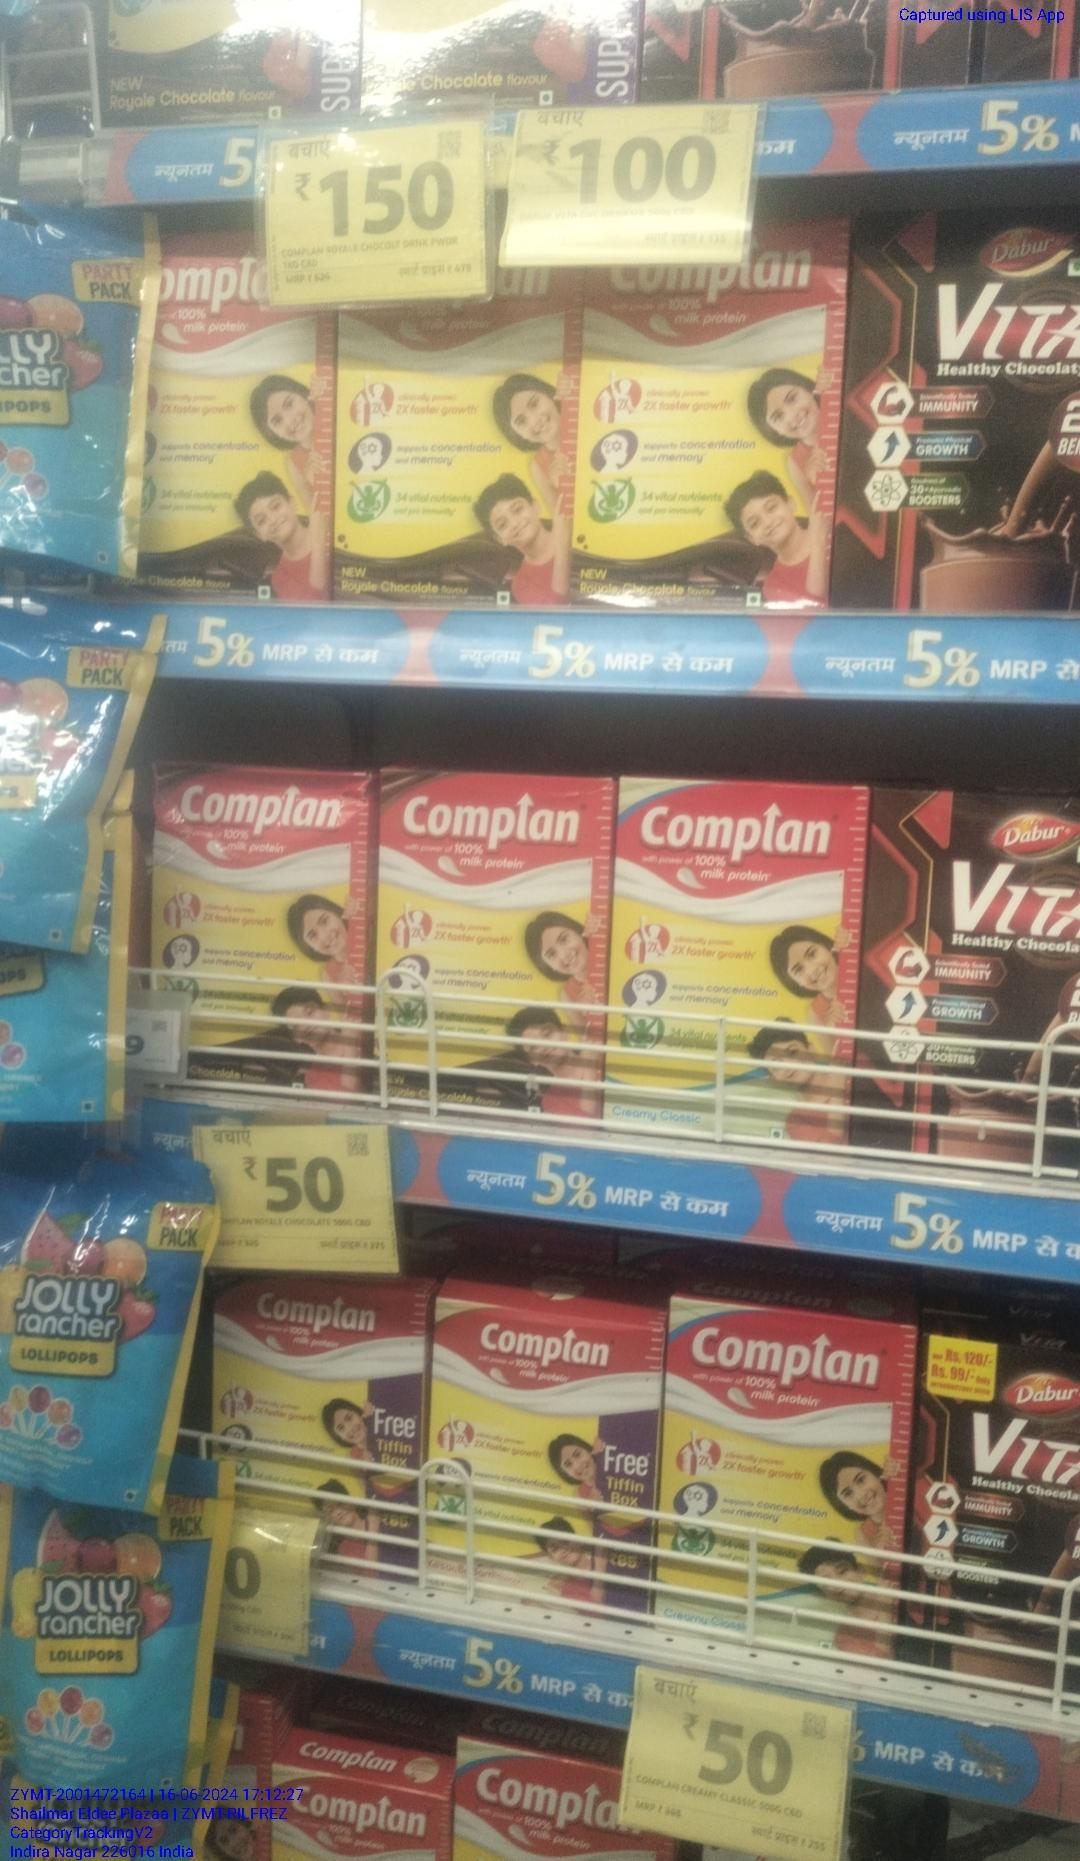COMPLAN_CHOCOLATE_1_KG_PACK: (575, 280, 832, 613), (337, 303, 573, 595), (145, 308, 338, 604)
COMPLAN_CHOCOLATE_200_GMS_PACK: (387, 771, 603, 1123), (171, 762, 369, 1098)
COMPLAN_CREAMY_CLASSIC_500_G_PACK: (615, 771, 852, 1143), (662, 1303, 901, 1661)
COMPLAN_KESAR_BADAM_500_GMS_PACK: (431, 1301, 652, 1618), (238, 1289, 427, 1518)
